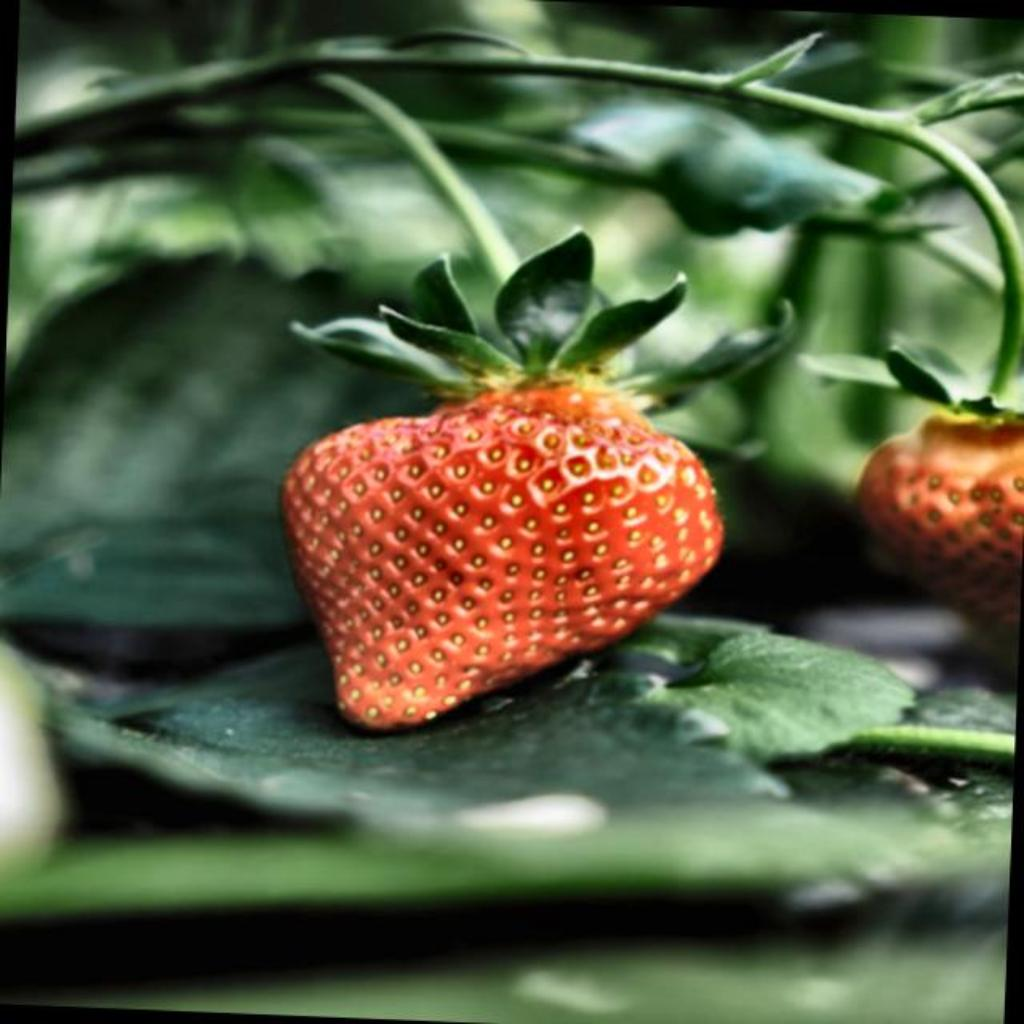strawberry: (282, 382, 724, 730), (858, 414, 1024, 621)
